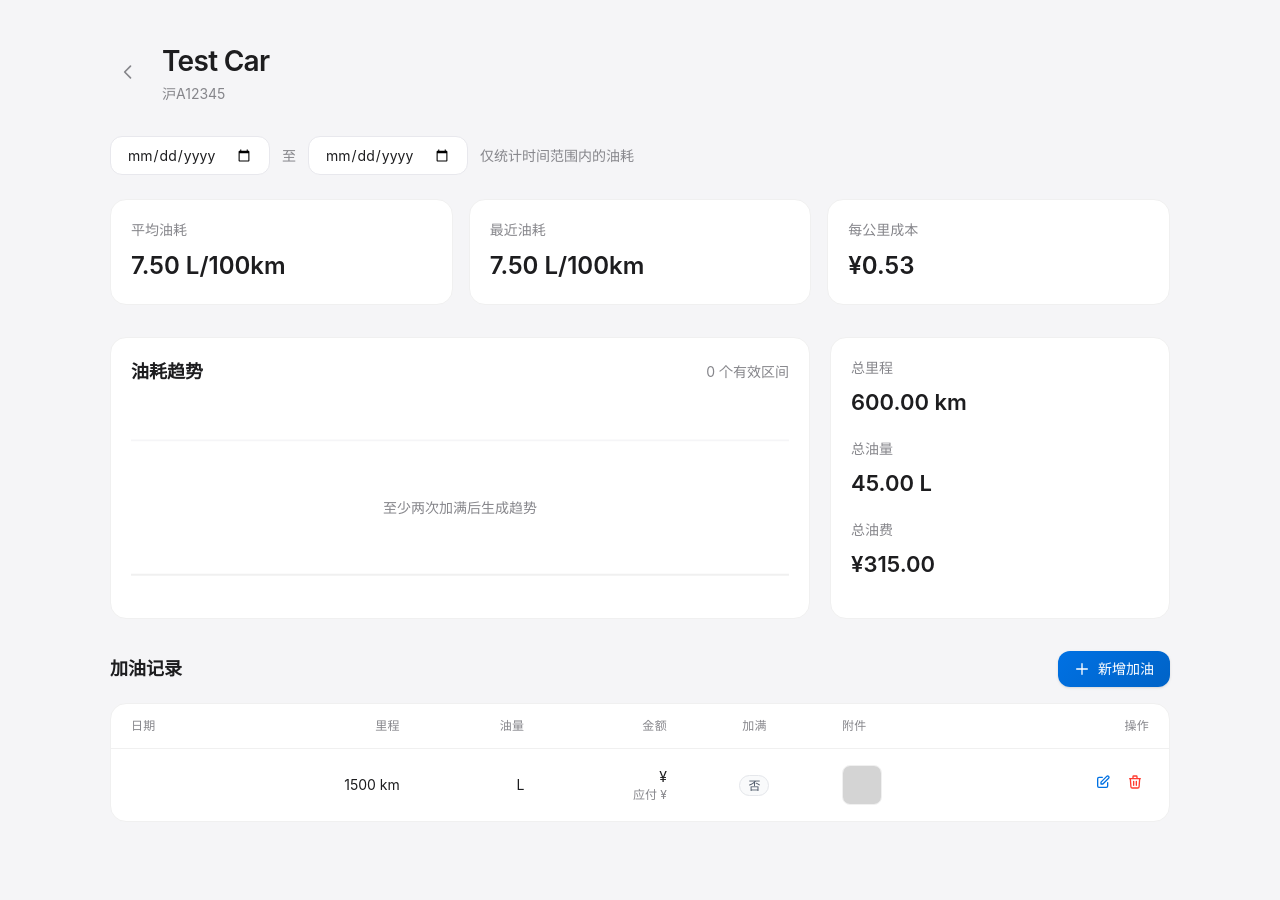
FuelDetail.vue › hides the station screen entry when editing a record that already has one
Click the button named "编辑" at (1103, 782), box left=1089, top=768, right=1117, bottom=796
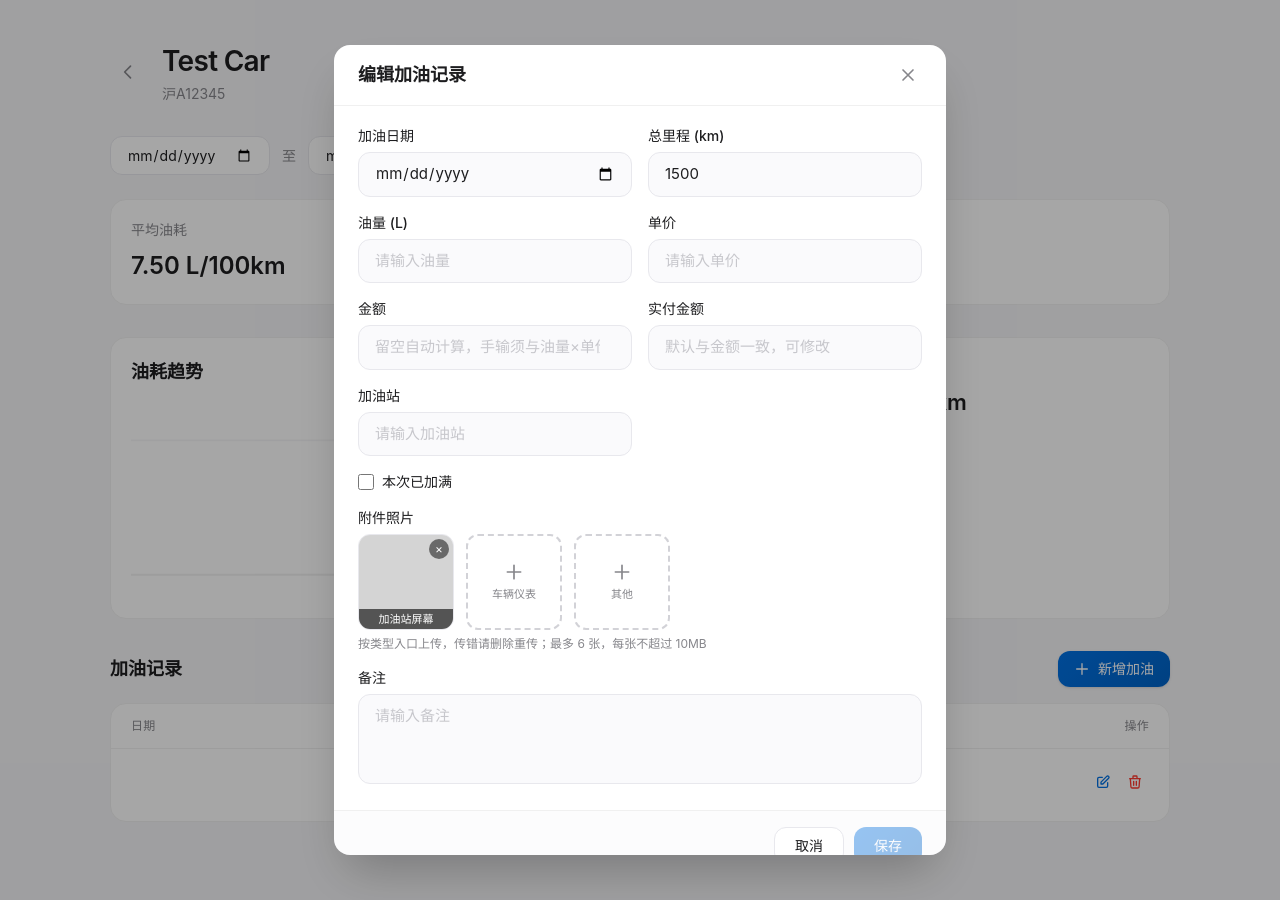
Now the 1st file field is shown, box left=466, top=534, right=562, bottom=630
Now the 2nd file field is shown, box left=574, top=534, right=670, bottom=630
